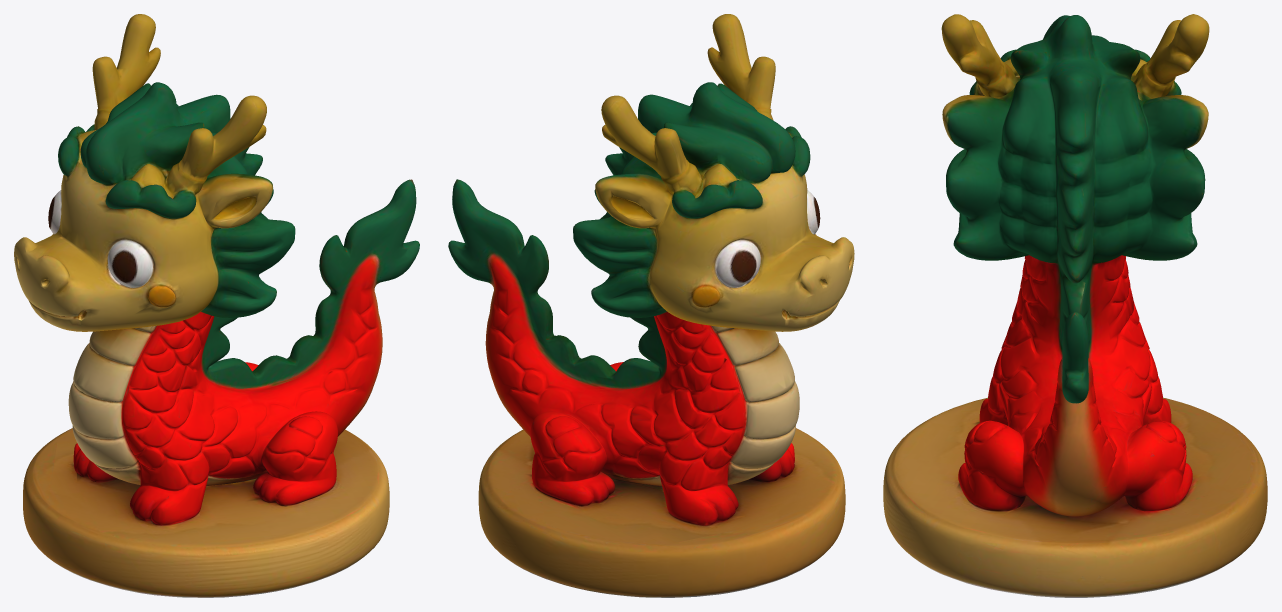
The model's file is dragon.glb.
The picture shows the model from 3 angles, left to right: view 1: azimuth 30°, elevation 25°; view 2: azimuth 150°, elevation 25°; view 3: azimuth 270°, elevation 25°; orthographic projection. The views are drawn at different scales.
Visible parts, largest first — view 1: node_0; view 2: node_0; view 3: node_0.
Part boxes in pixels (x1=…): node_0: x1=14, y1=14, x2=419, y2=597; node_0: x1=448, y1=14, x2=854, y2=597; node_0: x1=883, y1=14, x2=1267, y2=597.
Size of the model in its own units: 0.8298 by 0.9551 by 0.6673.
Materials: 1 (1 with a texture image).
